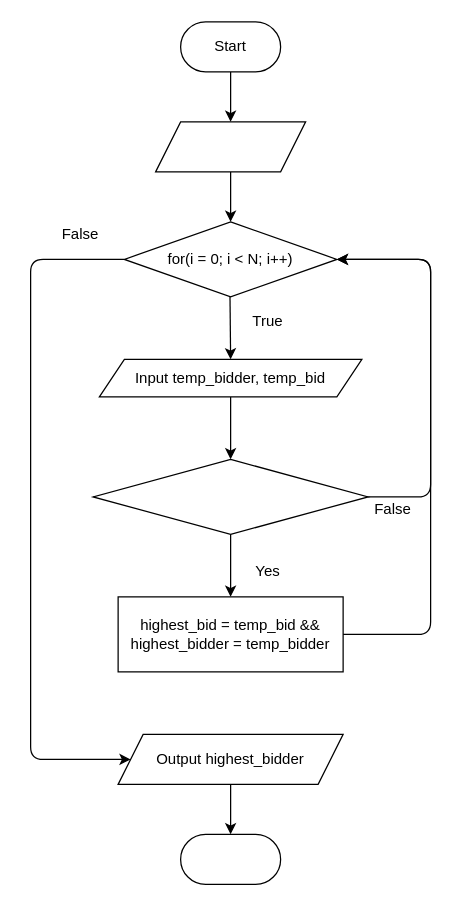
Some shapes in this 463 by 906 pixel diagram are drawn without their labels. Here are the shapes that lost their labels. From the top down, the box of each, then its label:
(154, 121, 306, 172): Input N
(92, 458, 368, 534): if temp_bid > highest_bid
(179, 833, 281, 884): End
